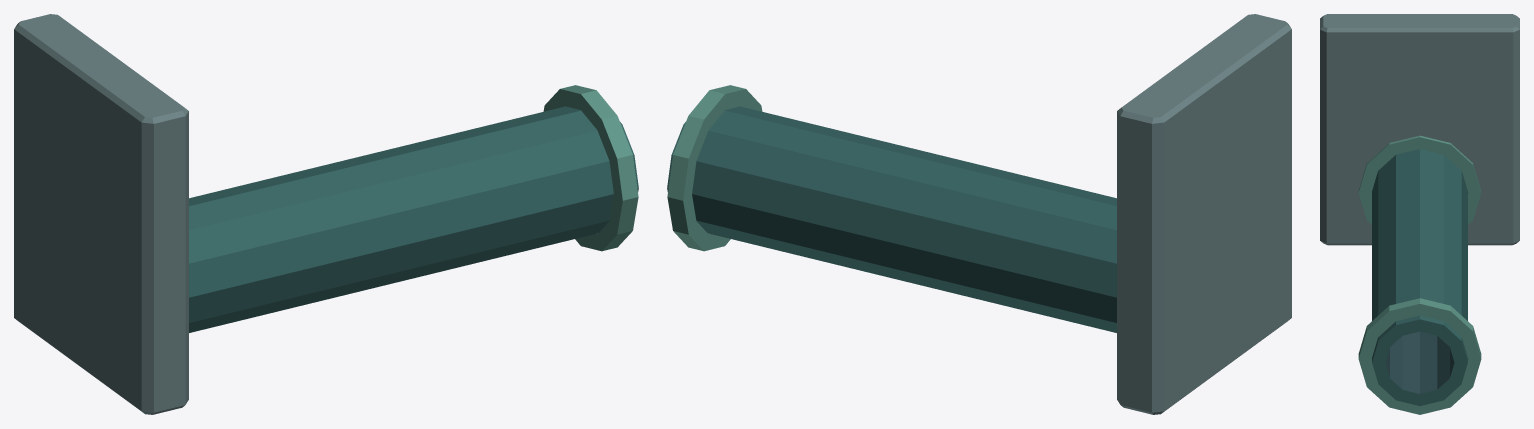
File: pipe-outlet.glb
3 views of the same model, side by side, from view 1: azimuth 30°, elevation 25°; view 2: azimuth 150°, elevation 25°; view 3: azimuth 270°, elevation 25° (orthographic). The views are drawn at different scales.
Visible parts, largest first — view 1: pipe-outlet__body; view 2: pipe-outlet__body; view 3: pipe-outlet__body.
Part boxes in pixels (x1,y1,x2,y2): pipe-outlet__body: (14, 14, 638, 414); pipe-outlet__body: (667, 14, 1291, 414); pipe-outlet__body: (1320, 14, 1519, 414).
Size of the model in its own units: 1.68 by 0.9004 by 0.75.
